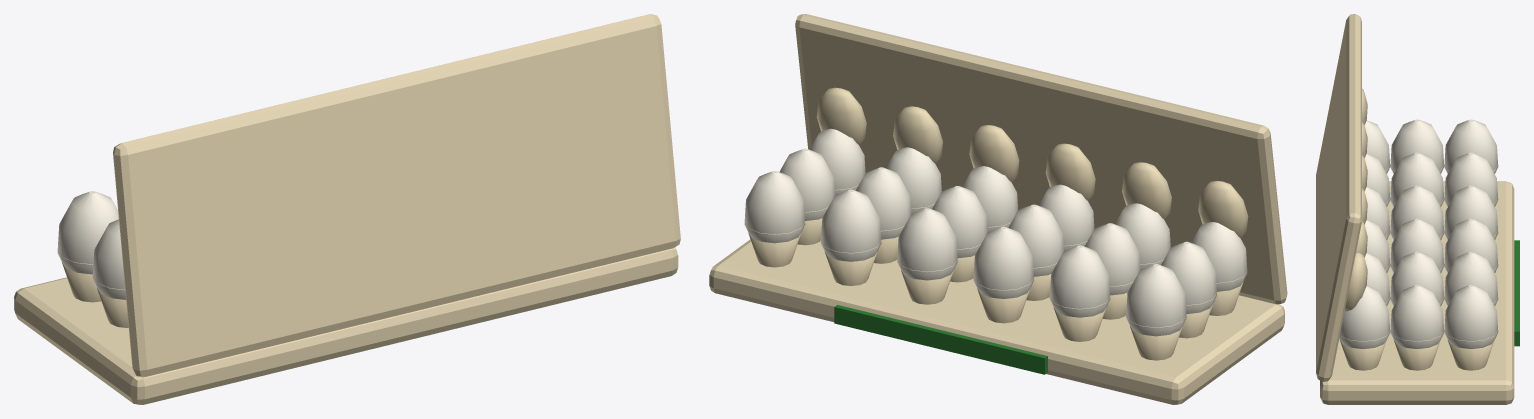
Rendered from eggs.fbx.
3 views of the same model, side by side, from view 1: azimuth 30°, elevation 25°; view 2: azimuth 150°, elevation 25°; view 3: azimuth 270°, elevation 25° (orthographic). The views are drawn at different scales.
Visible parts, largest first — view 1: Egg Carton; view 2: Egg Carton; view 3: Egg Carton.
Boxes of the visible parts, x1,y1,x2,y2 form: Egg Carton: (14, 14, 680, 404); Egg Carton: (709, 14, 1287, 404); Egg Carton: (1316, 14, 1519, 404).
Bounding box in the file's own units: 1.8 × 0.7843 × 0.7549.
